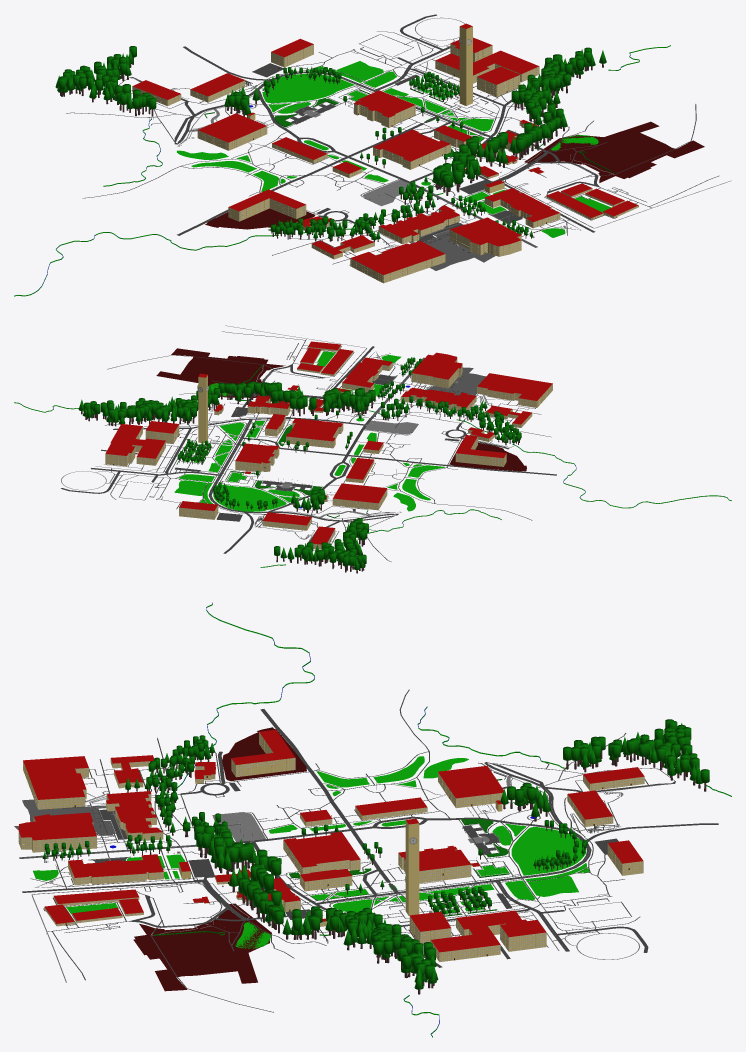
Rendered from campus.glb.
The picture shows the model from 3 angles, top to bottom: view 1: azimuth 30°, elevation 25°; view 2: azimuth 150°, elevation 25°; view 3: azimuth 270°, elevation 25°; orthographic projection. The views are drawn at different scales.
Parts seen in each view (by area): view 1: RoadJunction n346447214; view 2: RoadJunction n346447214; view 3: RoadJunction n346447214.
Boxes of the visible parts, x1,y1,x2,y2 form: RoadJunction n346447214: (14,14,731,296); RoadJunction n346447214: (14,325,731,573); RoadJunction n346447214: (14,602,731,1037).
Size of the model in its own units: 953 by 96.61 by 665.
